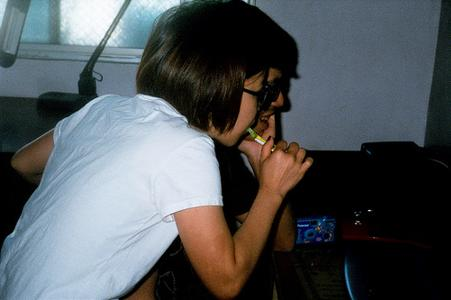person: (3, 3, 314, 297)
